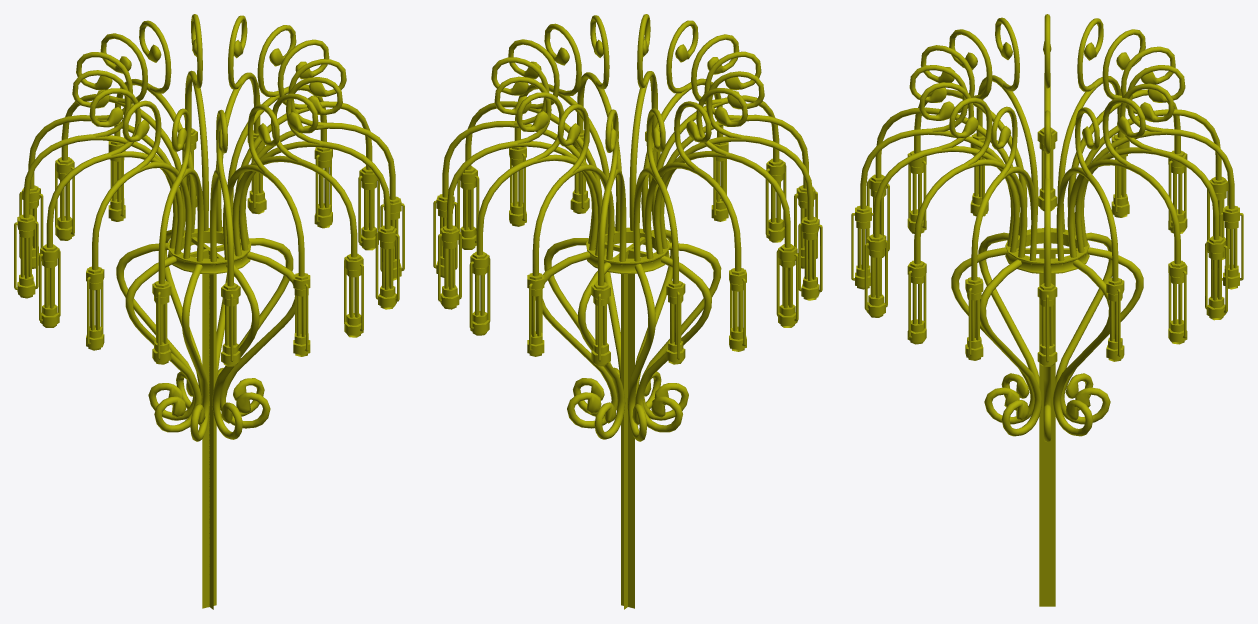
File: SM_Chandelier.fbx
3 views of the same model, side by side, from view 1: azimuth 30°, elevation 25°; view 2: azimuth 150°, elevation 25°; view 3: azimuth 270°, elevation 25° (orthographic).
Visible parts, largest first — view 1: GEO_Chandelier; view 2: GEO_Chandelier; view 3: GEO_Chandelier.
Part boxes in pixels (x1,y1,x2,y2): GEO_Chandelier: (14, 14, 404, 609); GEO_Chandelier: (433, 14, 822, 609); GEO_Chandelier: (851, 14, 1243, 606).
Size of the model in its own units: 187 by 285 by 187.
